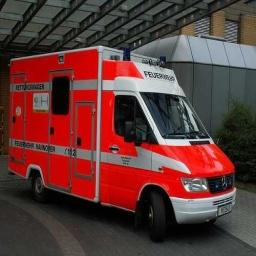Ambulance: (9, 46, 235, 240)
